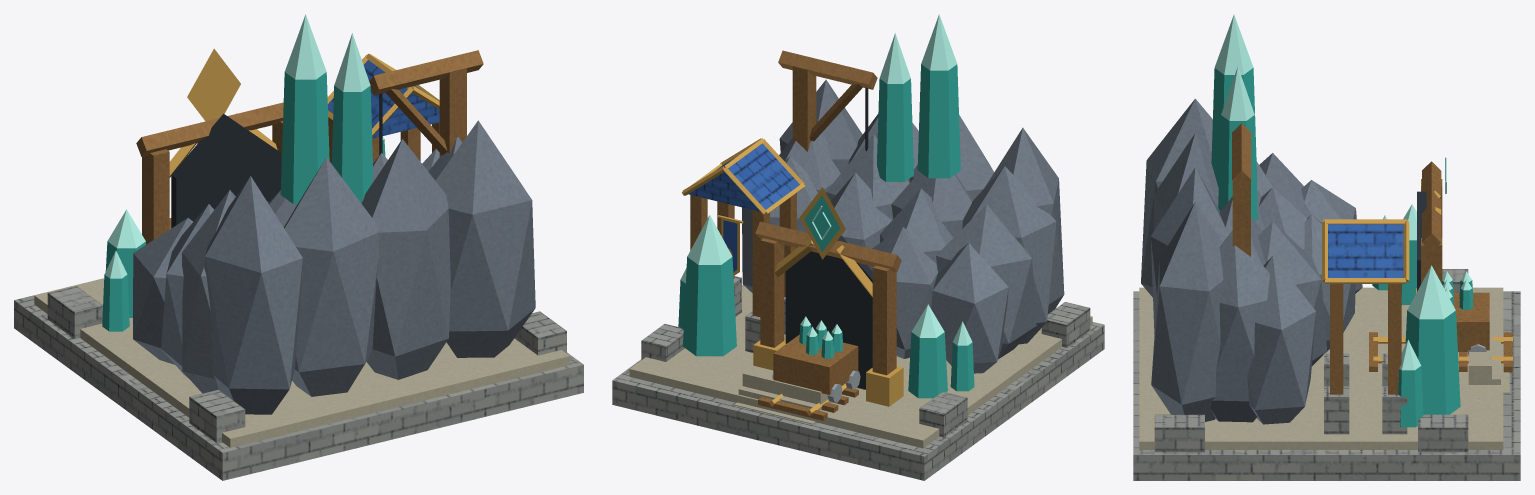
File: CrystalMine_2.fbx
The picture shows the model from 3 angles, left to right: view 1: azimuth 30°, elevation 25°; view 2: azimuth 150°, elevation 25°; view 3: azimuth 270°, elevation 25°; orthographic projection. The views are drawn at different scales.
Visible parts, largest first — view 1: BuildingBody; view 2: BuildingBody; view 3: BuildingBody.
Boxes of the visible parts, x1=… form: BuildingBody: x1=14, y1=14, x2=583, y2=480; BuildingBody: x1=612, y1=14, x2=1104, y2=480; BuildingBody: x1=1133, y1=14, x2=1520, y2=480.
Size of the model in its own units: 1 by 1.05 by 1.
Materials: 1 (1 with a texture image).
